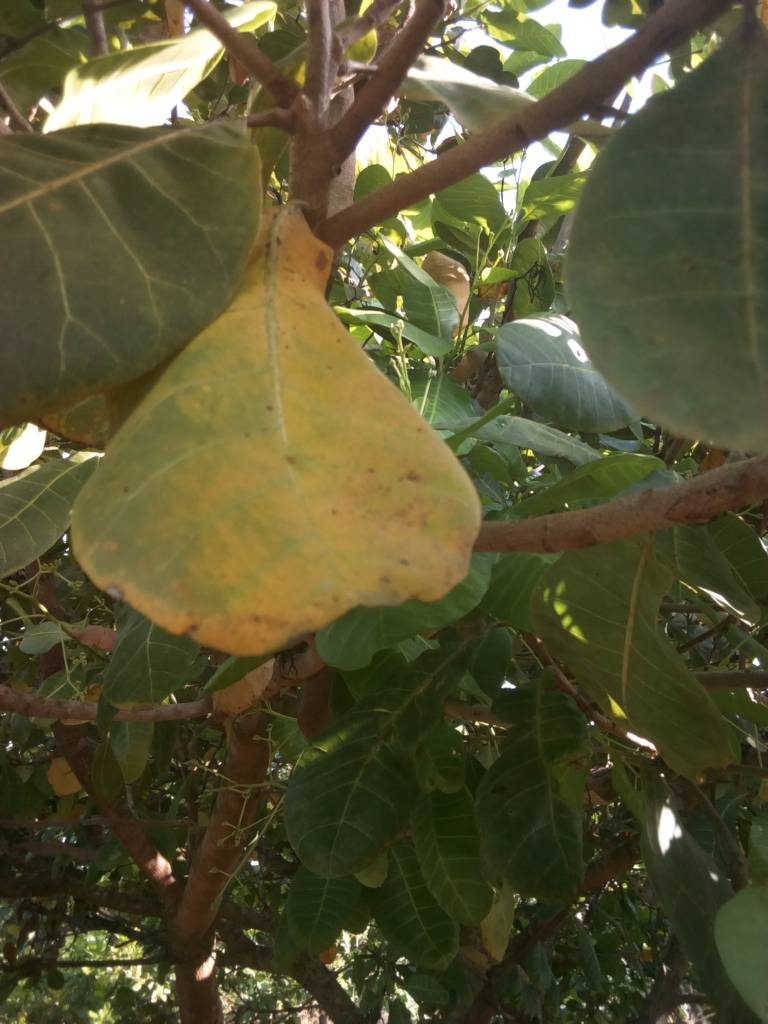Anthracnose: (80, 194, 480, 646)
